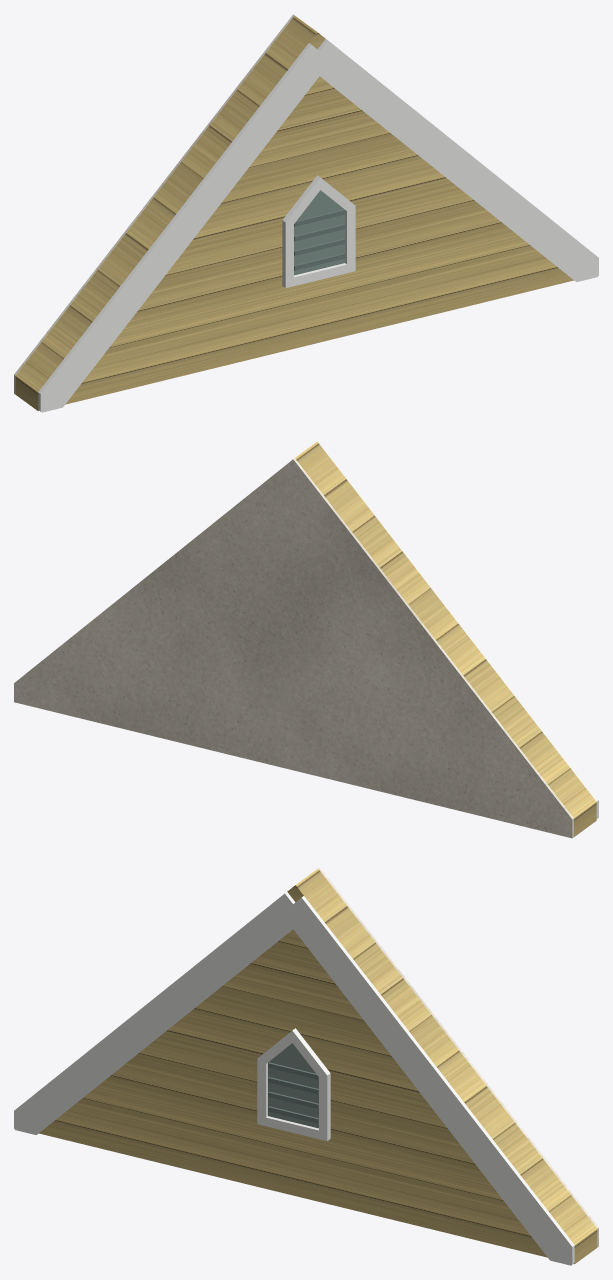
Rendered from gable_b.glb.
3 views of the same model, one above another, from view 1: azimuth 30°, elevation 25°; view 2: azimuth 150°, elevation 25°; view 3: azimuth 330°, elevation 25° (orthographic).
Visible parts, largest first — view 1: gable_b_siding_b, gable_b_trim, gable_b_shutter, gable_b_shutter_dark, gable_b_plaster; view 2: gable_b_plaster, gable_b_siding_b, gable_b_trim; view 3: gable_b_siding_b, gable_b_trim, gable_b_shutter, gable_b_shutter_dark, gable_b_plaster.
Boxes of the visible parts, x1=… form: gable_b_siding_b: x1=15, y1=15, x2=573, y2=411; gable_b_trim: x1=38, y1=39, x2=598, y2=412; gable_b_shutter: x1=294, y1=190, x2=344, y2=275; gable_b_shutter_dark: x1=294, y1=209, x2=344, y2=270; gable_b_plaster: x1=14, y1=14, x2=294, y2=394; gable_b_plaster: x1=14, y1=458, x2=573, y2=838; gable_b_siding_b: x1=295, y1=441, x2=596, y2=836; gable_b_trim: x1=326, y1=451, x2=598, y2=818; gable_b_siding_b: x1=39, y1=868, x2=597, y2=1264; gable_b_trim: x1=14, y1=892, x2=574, y2=1265; gable_b_shutter: x1=268, y1=1043, x2=318, y2=1128; gable_b_shutter_dark: x1=268, y1=1062, x2=318, y2=1123; gable_b_plaster: x1=318, y1=867, x2=598, y2=1247.
Size of the model in its own units: 4 by 2.13 by 0.34.
5 materials, 2 textured.
